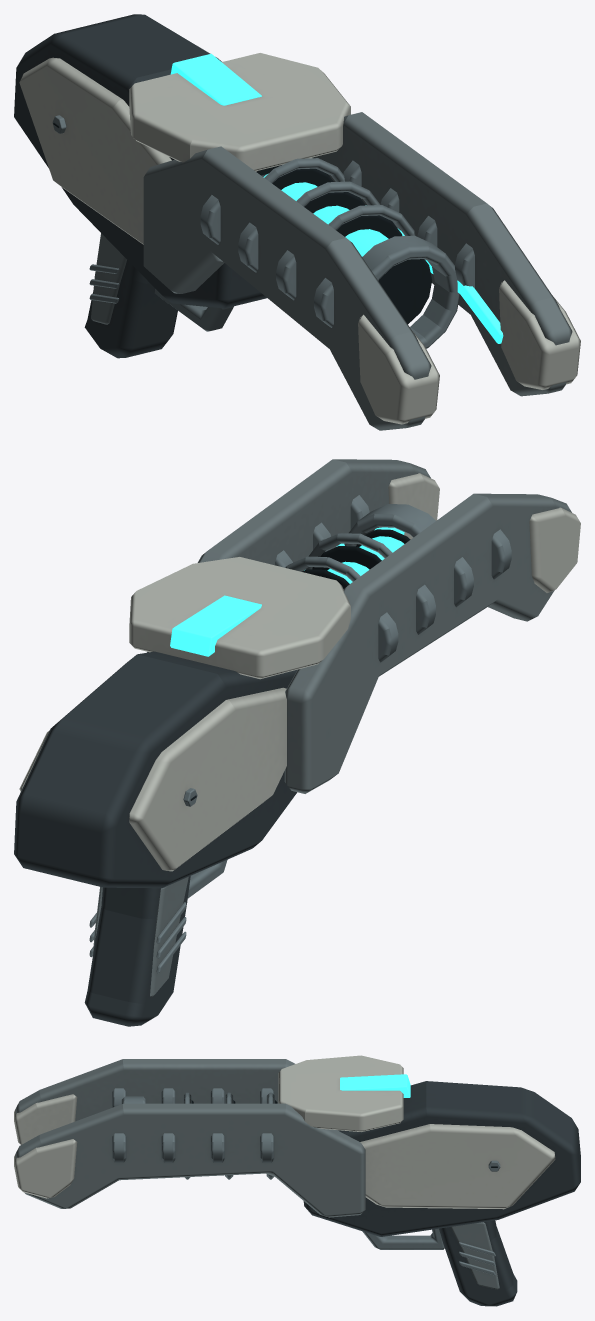
Rendered from plasma.glb.
3 renders of one model, top to bottom at view 1: azimuth 30°, elevation 25°; view 2: azimuth 150°, elevation 25°; view 3: azimuth 270°, elevation 25°, orthographic. The views are drawn at different scales.
Visible parts, largest first — view 1: plasma-original-arsenal; view 2: plasma-original-arsenal; view 3: plasma-original-arsenal.
Boxes of the visible parts, x1,y1,x2,y2 form: plasma-original-arsenal: (14,14,580,430); plasma-original-arsenal: (14,459,580,1026); plasma-original-arsenal: (14,1055,580,1306).
Size of the model in its own units: 0.38 by 0.6425 by 1.5.
1 material, 1 textured.
